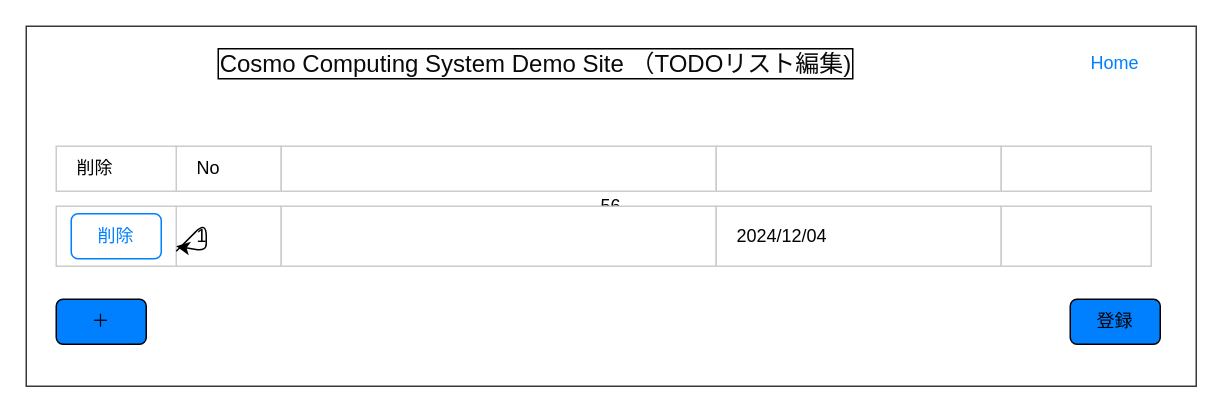
Some shapes in this 1223 by 413 pixel diagram are drawn without their labels. Each missing label, with the box of its shape:
ノートを購入する: (280, 205, 716, 266)
内容: (280, 145, 716, 191)
完了: (1000, 145, 1151, 191)
期限: (715, 145, 1001, 191)
未完了: (1000, 205, 1151, 266)
